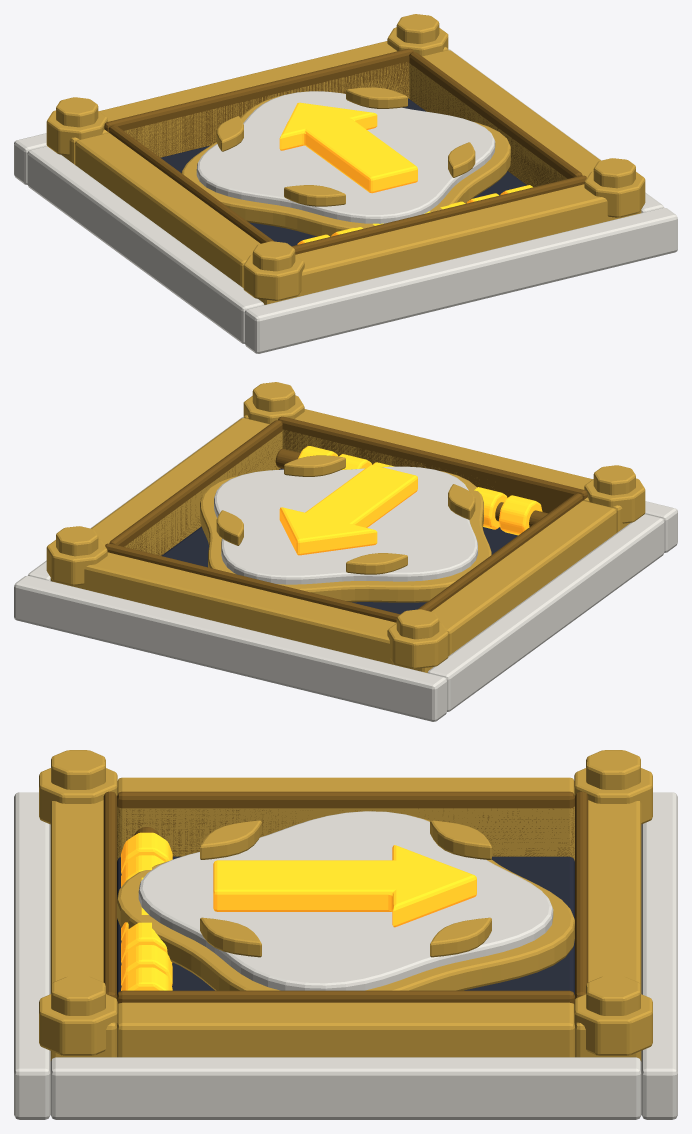
The model's file is board_spring_3.glb.
3 views of the same model, one above another, from view 1: azimuth 30°, elevation 25°; view 2: azimuth 150°, elevation 25°; view 3: azimuth 270°, elevation 25° (orthographic). The views are drawn at different scales.
Visible parts, largest first — view 1: Kerb1, Plate, Gold1, Kerb3, Gold3, Gold0, GoldLine0, Gold2, Arrow, PlateEdge, GoldLine2, GoldLine1 (+15 smaller); view 2: Kerb0, Plate, Gold0, Kerb3, Gold3, Gold2, Arrow, GoldLine1, Gold1, PlateEdge, GoldLine2, GoldLine0 (+18 smaller); view 3: Kerb2, Plate, Gold2, Gold3, Arrow, Kerb0, Kerb1, Gold0, Gold1, GoldLine3, PlateEdge, GoldLine2 (+20 smaller).
Boxes of the visible parts, x1,y1,x2,y2 form: Kerb1: [244, 207, 677, 353]; Plate: [196, 91, 495, 223]; Gold1: [258, 184, 641, 304]; Kerb3: [27, 146, 264, 343]; Gold3: [75, 132, 260, 287]; Gold0: [62, 41, 447, 164]; GoldLine0: [104, 48, 413, 157]; Gold2: [409, 50, 600, 186]; Arrow: [279, 102, 417, 193]; PlateEdge: [181, 95, 510, 236]; GoldLine2: [409, 52, 582, 186]; GoldLine1: [292, 175, 586, 254]; Kerb0: [14, 575, 447, 721]; Plate: [214, 466, 477, 584]; Gold0: [50, 552, 433, 672]; Kerb3: [427, 514, 664, 711]; Gold3: [431, 500, 616, 655]; Gold2: [91, 418, 282, 555]; Arrow: [279, 465, 417, 555]; GoldLine1: [278, 416, 587, 513]; Gold1: [244, 409, 629, 532]; PlateEdge: [200, 471, 491, 602]; GoldLine2: [109, 420, 282, 555]; GoldLine0: [105, 543, 399, 622]; Kerb2: [50, 1057, 641, 1119]; Plate: [138, 811, 553, 990]; Gold2: [117, 1002, 574, 1057]; Gold3: [117, 777, 574, 860]; Arrow: [213, 845, 476, 927]; Kerb0: [641, 792, 677, 1119]; Kerb1: [14, 792, 50, 1119]; Gold0: [575, 800, 641, 1061]; Gold1: [50, 800, 116, 1061]; GoldLine3: [117, 791, 574, 858]; PlateEdge: [117, 815, 574, 990]; GoldLine2: [117, 990, 574, 1003].
Bounding box in the file's own units: 1 × 0.1795 × 1.
